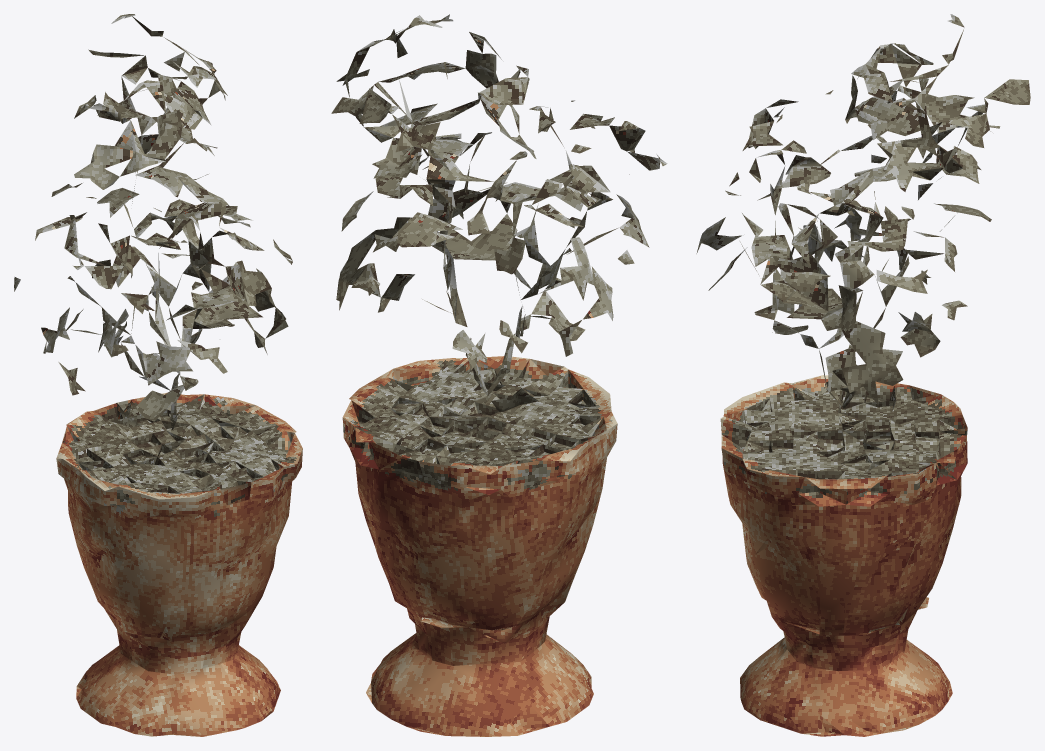
Rendered from plant_pot1.glb.
3 views of the same model, side by side, from view 1: azimuth 30°, elevation 25°; view 2: azimuth 150°, elevation 25°; view 3: azimuth 270°, elevation 25° (orthographic). The views are drawn at different scales.
Parts seen in each view (by area): view 1: mesh; view 2: mesh; view 3: mesh.
Part boxes in pixels (left/top/right/bottom): mesh: left=14, top=14, right=302, bottom=736; mesh: left=331, top=14, right=667, bottom=736; mesh: left=696, top=14, right=1030, bottom=736.
Size of the model in its own units: 0.5796 by 1.35 by 0.6064.
1 material, 1 textured.
